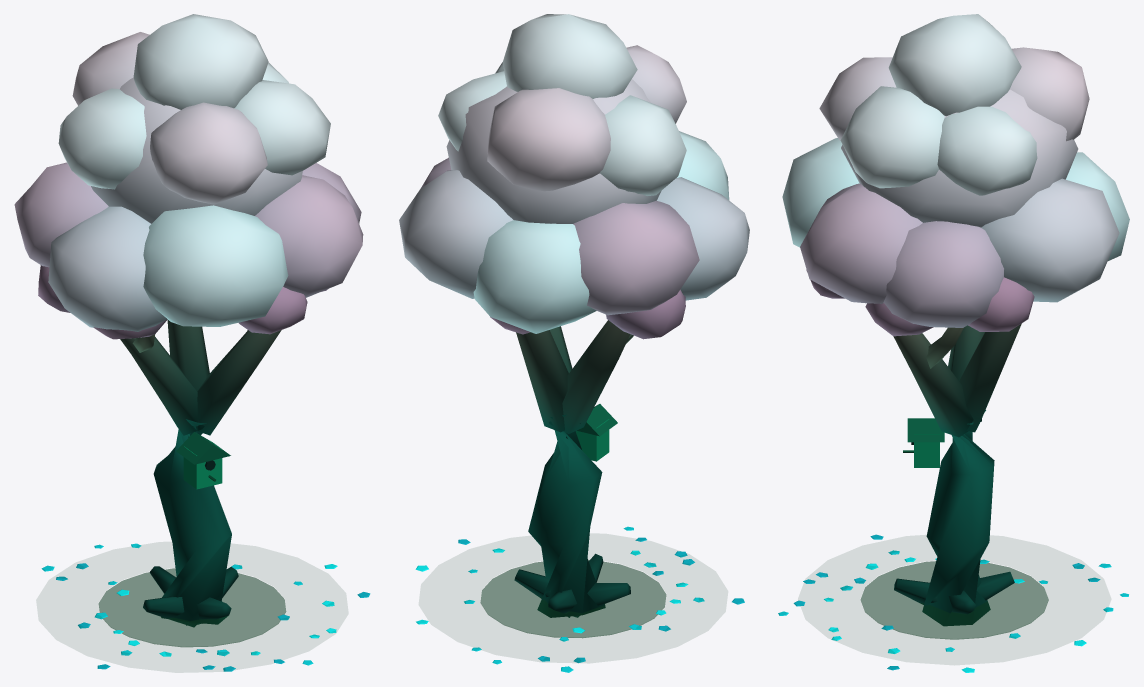
File: blossom_tree.glb
The picture shows the model from 3 angles, left to right: view 1: azimuth 30°, elevation 25°; view 2: azimuth 150°, elevation 25°; view 3: azimuth 270°, elevation 25°; orthographic projection.
Parts seen in each view (by area): view 1: blossom_tree; view 2: blossom_tree; view 3: blossom_tree.
Part boxes in pixels (x1,y1,x2,y2): blossom_tree: (14, 14, 370, 671); blossom_tree: (399, 14, 749, 672); blossom_tree: (778, 14, 1129, 672).
Bounding box in the file's own units: 1.89 × 3.61 × 1.91.
